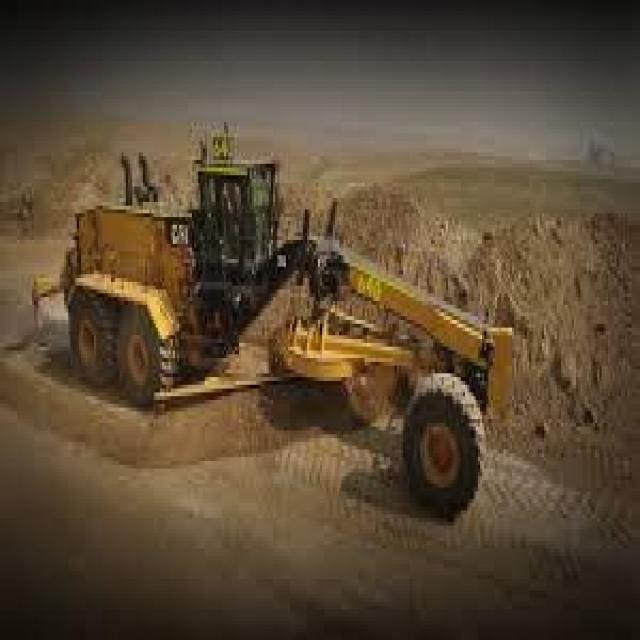Grader: (28, 99, 527, 533)
